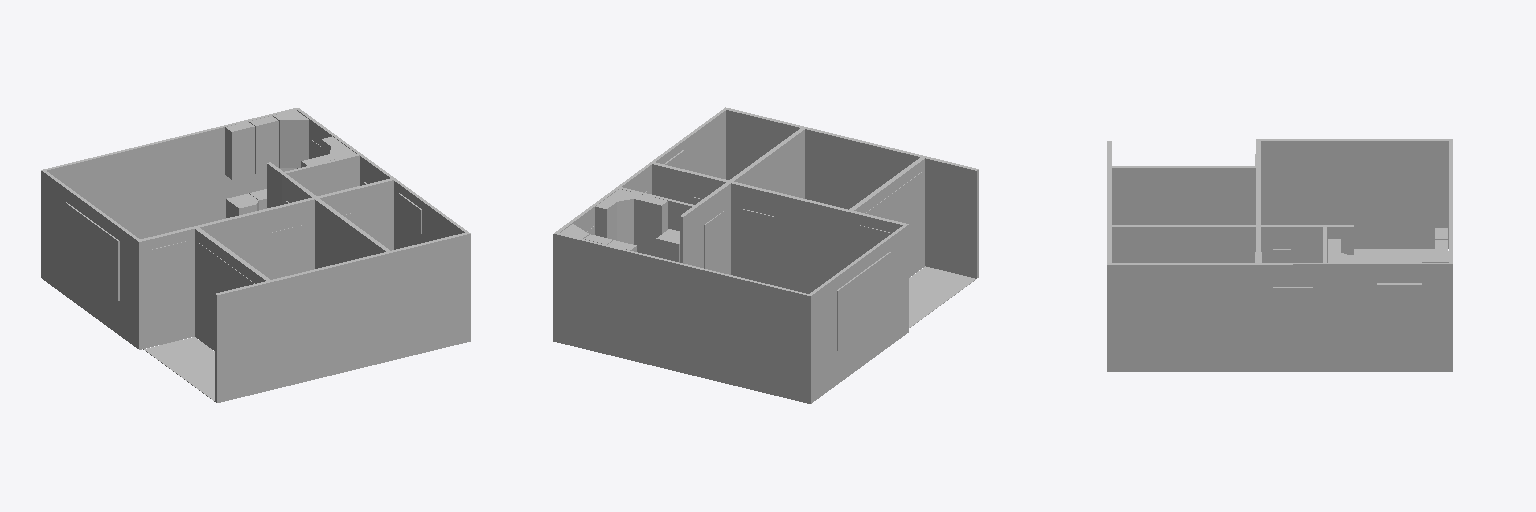
File: Kitchen_wall.obj
3 views of the same model, side by side, from view 1: azimuth 30°, elevation 25°; view 2: azimuth 150°, elevation 25°; view 3: azimuth 270°, elevation 25° (orthographic).
Parts seen in each view (by area): view 1: Wall_outer_Cube.030, Wall_inner_Cube.001, Window.004_Cube.024, Window.001_Cube.004, Floor_Balcony_Cube.019, Window.003_Cube.023, Storage.002_Cube.013, Indoor.001_Cube.027, Storage.004_Cube.011, Storage.003_Cube.012, Cupboard_Cube.009, Window.002_Cube.022; view 2: Wall_outer_Cube.030, Wall_inner_Cube.001, Window.001_Cube.004, Indoor.001_Cube.027, Floor_Balcony_Cube.019, Window.005_Cube.025, Storage_Cube.015, Indoor_Cube.026, Storage.005_Cube.016, Storage.001_Cube.014, Fridge_Cube.003, Window.004_Cube.024 (+1 smaller); view 3: Wall_outer_Cube.030, Wall_inner_Cube.001, Window.001_Cube.004, Window.003_Cube.023, Door_Cube.029, Window_Cube.002, Window.005_Cube.025, Window.002_Cube.022, Floor_LivingRoom_Cube.017, Indoor_Cube.026.
Boxes of the visible parts, box(x1,y1,x2,y2) form: Wall_outer_Cube.030: box(41, 171, 470, 402); Wall_inner_Cube.001: box(41, 108, 470, 294); Window.004_Cube.024: box(150, 241, 187, 345); Window.001_Cube.004: box(65, 202, 119, 300); Floor_Balcony_Cube.019: box(143, 337, 214, 401); Window.003_Cube.023: box(199, 243, 239, 349); Storage.002_Cube.013: box(273, 110, 308, 167); Indoor.001_Cube.027: box(271, 225, 304, 279); Storage.004_Cube.011: box(225, 122, 254, 179); Storage.003_Cube.012: box(249, 116, 278, 173); Cupboard_Cube.009: box(226, 193, 258, 217); Window.002_Cube.022: box(399, 193, 421, 233); Wall_outer_Cube.030: box(553, 158, 978, 403); Wall_inner_Cube.001: box(554, 107, 978, 295); Window.001_Cube.004: box(837, 252, 890, 350); Indoor.001_Cube.027: box(740, 209, 774, 285); Floor_Balcony_Cube.019: box(909, 266, 975, 327); Window.005_Cube.025: box(900, 172, 921, 276); Storage_Cube.015: box(634, 194, 667, 251); Indoor_Cube.026: box(704, 211, 724, 273); Storage.005_Cube.016: box(606, 189, 639, 244); Storage.001_Cube.014: box(595, 199, 616, 240); Fridge_Cube.003: box(656, 229, 679, 262); Window.004_Cube.024: box(857, 225, 891, 258); Wall_outer_Cube.030: box(1107, 264, 1452, 371); Wall_inner_Cube.001: box(1107, 139, 1452, 264); Window.001_Cube.004: box(1295, 154, 1400, 213); Window.003_Cube.023: box(1164, 179, 1245, 224); Door_Cube.029: box(1273, 287, 1312, 371); Window_Cube.002: box(1377, 283, 1421, 332); Window.005_Cube.025: box(1120, 179, 1163, 224); Window.002_Cube.022: box(1199, 273, 1242, 296); Floor_LivingRoom_Cube.017: box(1354, 249, 1434, 262); Indoor_Cube.026: box(1273, 249, 1312, 262).
Size of the model in its own units: 136 by 54.22 by 156.